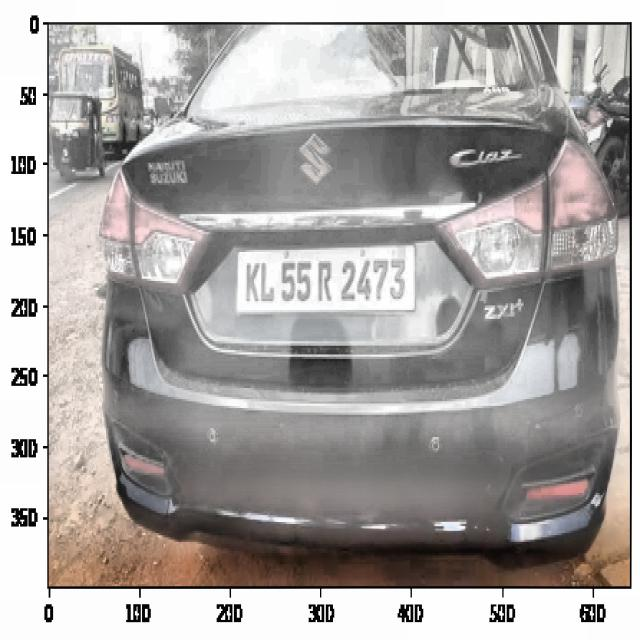license_plate: (240, 254, 412, 312)
